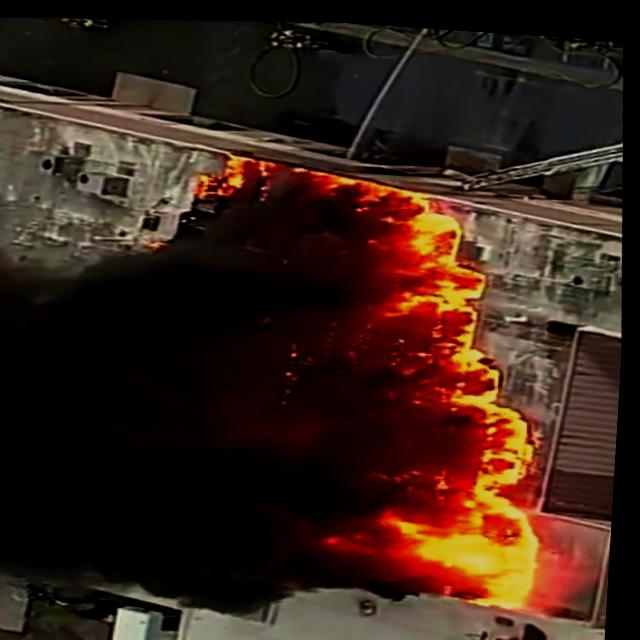fire: (342, 498, 545, 600), (364, 196, 510, 315)
smoke: (0, 315, 267, 554)
